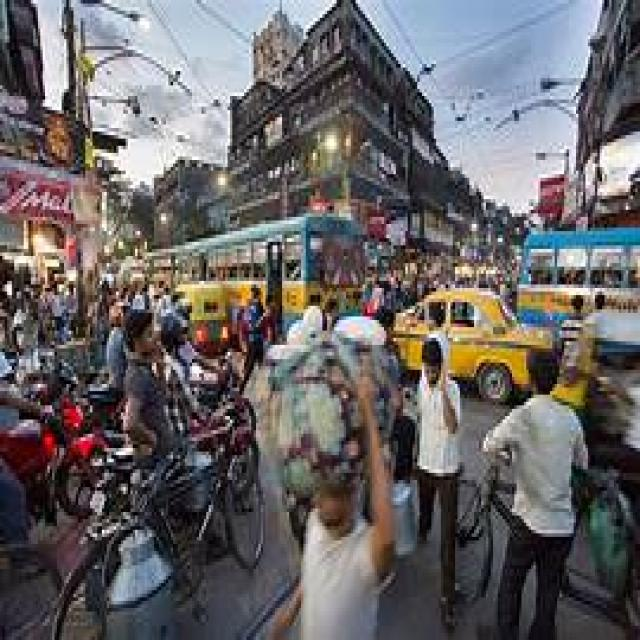Bus: (170, 216, 359, 325), (516, 229, 640, 356), (189, 300, 225, 338)
Car: (394, 289, 551, 400)
Two Wheeler: (0, 364, 117, 520)
